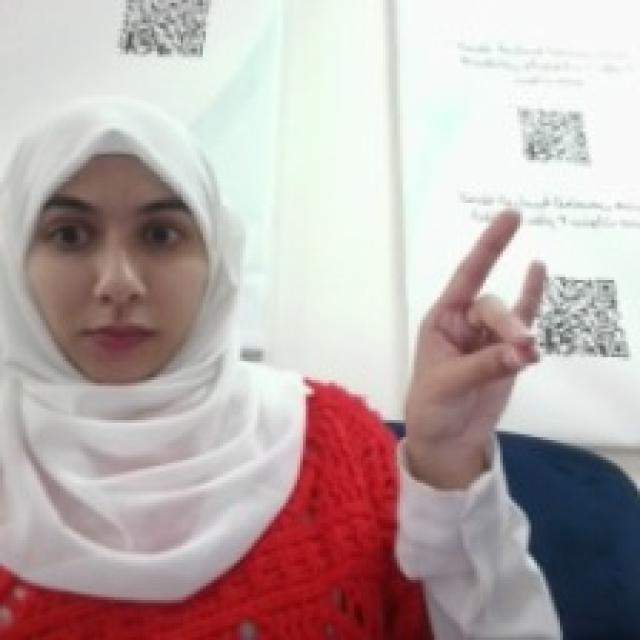Dog: (403, 200, 554, 451)
